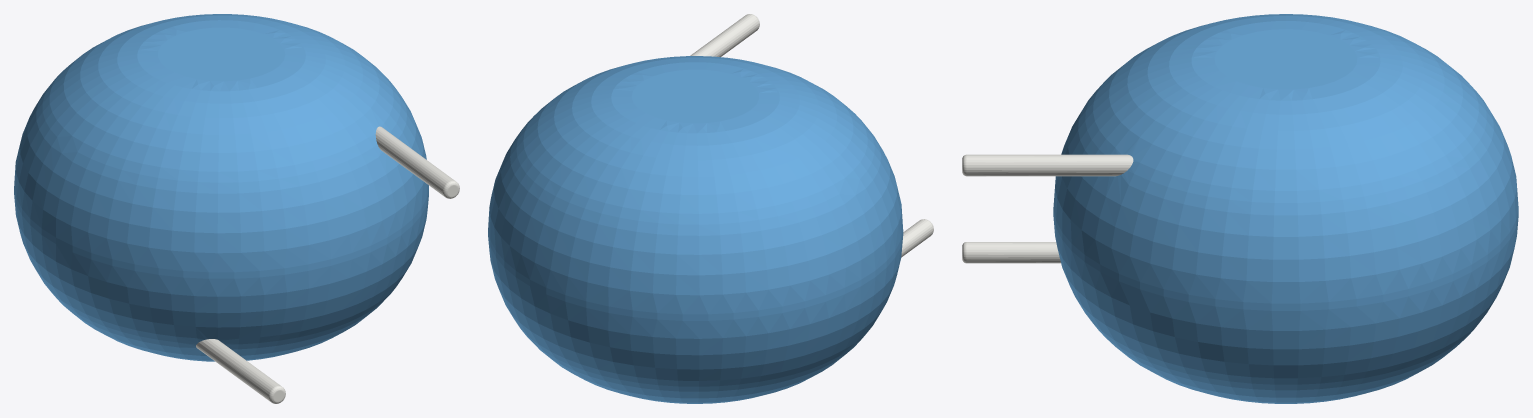
Rendered from RV_Disc_D15.5mm_W11mm_P7.5mm.glb.
The picture shows the model from 3 angles, left to right: view 1: azimuth 30°, elevation 25°; view 2: azimuth 150°, elevation 25°; view 3: azimuth 270°, elevation 25°; orthographic projection. The views are drawn at different scales.
Visible parts, largest first — view 1: Shape_IndexedFaceSet.001, Shape_IndexedFaceSet.002, Shape_IndexedFaceSet.003, Shape_IndexedFaceSet, Shape_IndexedFaceSet.004, Shape_IndexedFaceSet.006; view 2: Shape_IndexedFaceSet.001, Shape_IndexedFaceSet.002, Shape_IndexedFaceSet.003, Shape_IndexedFaceSet, Shape_IndexedFaceSet.004, Shape_IndexedFaceSet.006; view 3: Shape_IndexedFaceSet.001, Shape_IndexedFaceSet.002, Shape_IndexedFaceSet.003, Shape_IndexedFaceSet.004, Shape_IndexedFaceSet, Shape_IndexedFaceSet.006.
Part boxes in pixels (x1,y1,x2,y2): Shape_IndexedFaceSet.001: [14, 14, 428, 272]; Shape_IndexedFaceSet.002: [14, 194, 428, 361]; Shape_IndexedFaceSet.003: [158, 27, 285, 81]; Shape_IndexedFaceSet: [14, 188, 428, 278]; Shape_IndexedFaceSet.004: [375, 126, 454, 196]; Shape_IndexedFaceSet.006: [196, 339, 280, 401]; Shape_IndexedFaceSet.001: [488, 56, 902, 314]; Shape_IndexedFaceSet.002: [488, 238, 902, 403]; Shape_IndexedFaceSet.003: [631, 69, 759, 123]; Shape_IndexedFaceSet: [488, 230, 903, 320]; Shape_IndexedFaceSet.004: [690, 14, 759, 56]; Shape_IndexedFaceSet.006: [901, 219, 933, 257]; Shape_IndexedFaceSet.001: [1053, 14, 1518, 303]; Shape_IndexedFaceSet.002: [1053, 216, 1518, 403]; Shape_IndexedFaceSet.003: [1214, 29, 1357, 89]; Shape_IndexedFaceSet.004: [966, 154, 1133, 176]; Shape_IndexedFaceSet: [1053, 209, 1518, 310]; Shape_IndexedFaceSet.006: [966, 242, 1060, 263].
Size of the model in its own units: 6.1 by 4.33 by 7.29.
